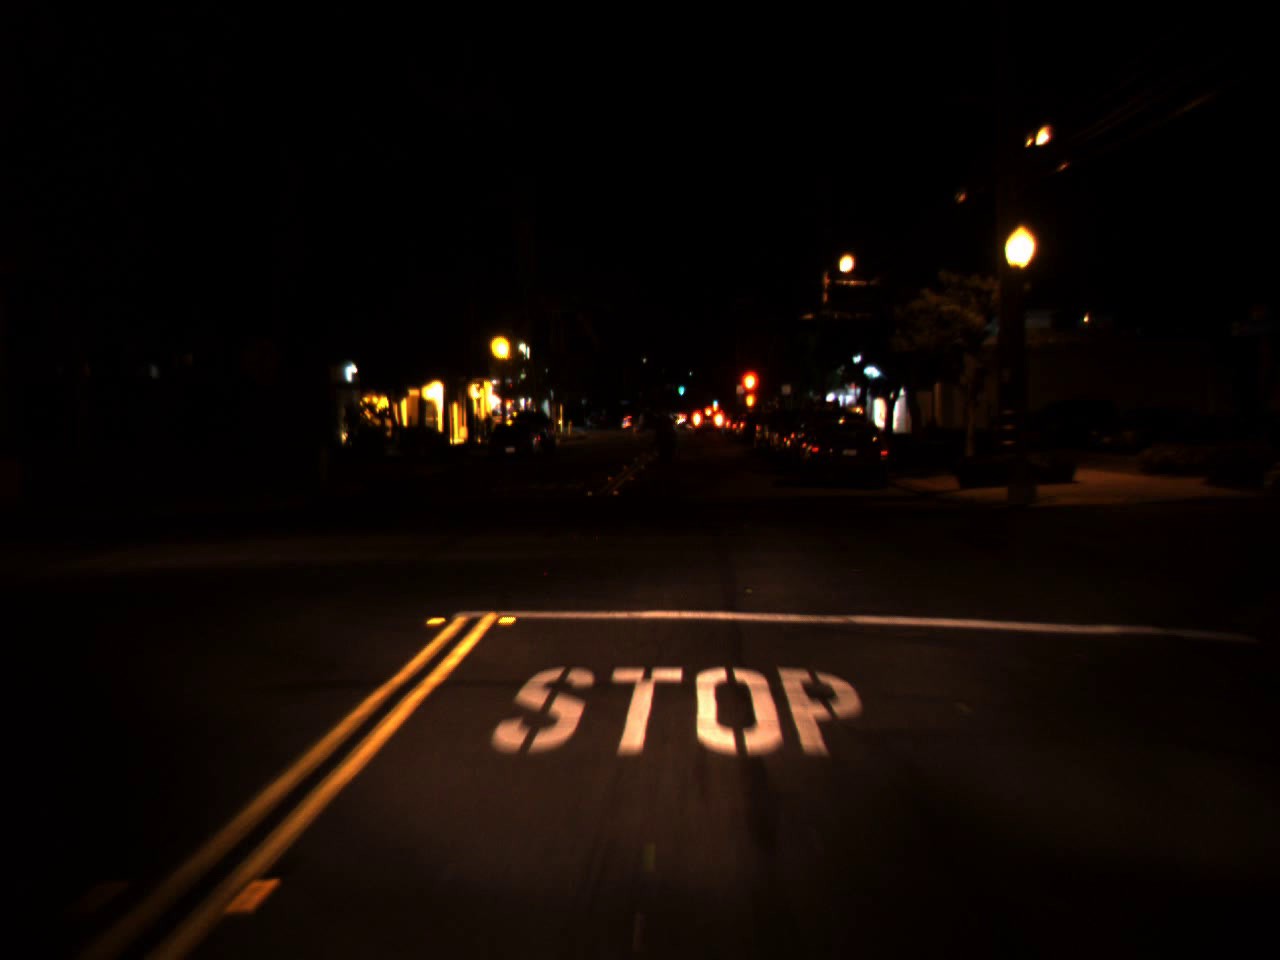go: (675, 379, 684, 397), (712, 394, 719, 406)
stop: (738, 367, 762, 418)
